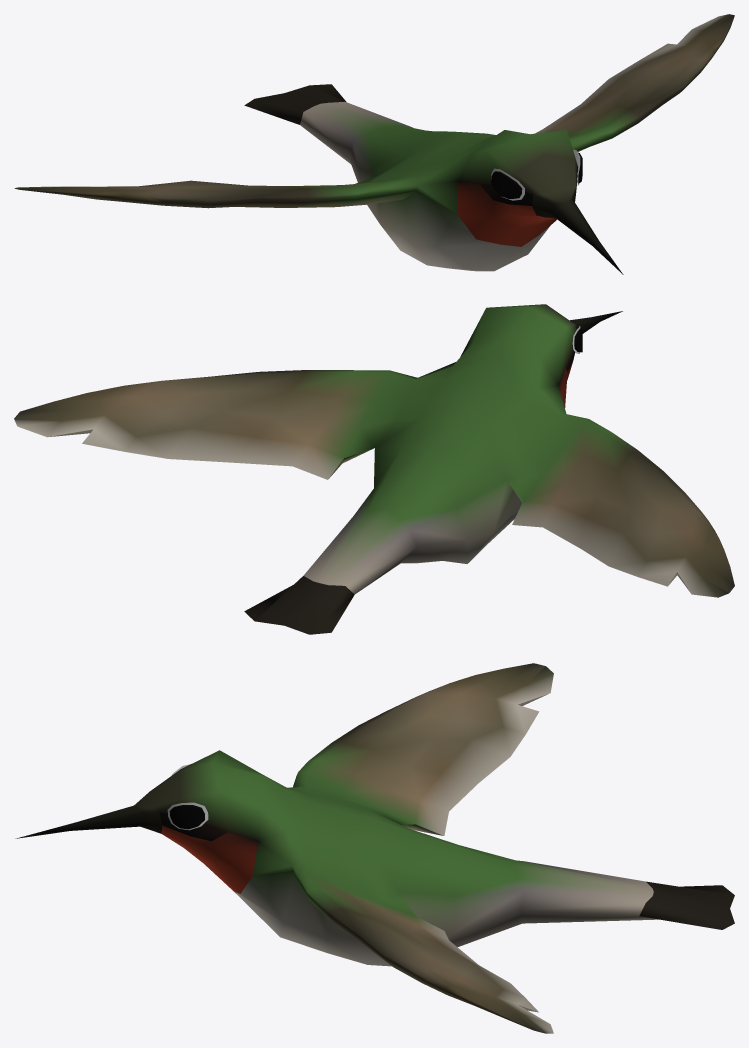
File: animals-birds-hummingbird_v1.glb
The picture shows the model from 3 angles, top to bottom: view 1: azimuth 30°, elevation 25°; view 2: azimuth 150°, elevation 25°; view 3: azimuth 270°, elevation 25°; orthographic projection. The views are drawn at different scales.
Parts seen in each view (by area): view 1: Hummingbird.001; view 2: Hummingbird.001; view 3: Hummingbird.001.
Part boxes in pixels (x1,y1,x2,y2): Hummingbird.001: (14, 14, 734, 274); Hummingbird.001: (14, 304, 734, 634); Hummingbird.001: (15, 663, 734, 1033).
Bounding box in the file's own units: 0.3849 × 0.0955 × 0.3191.
